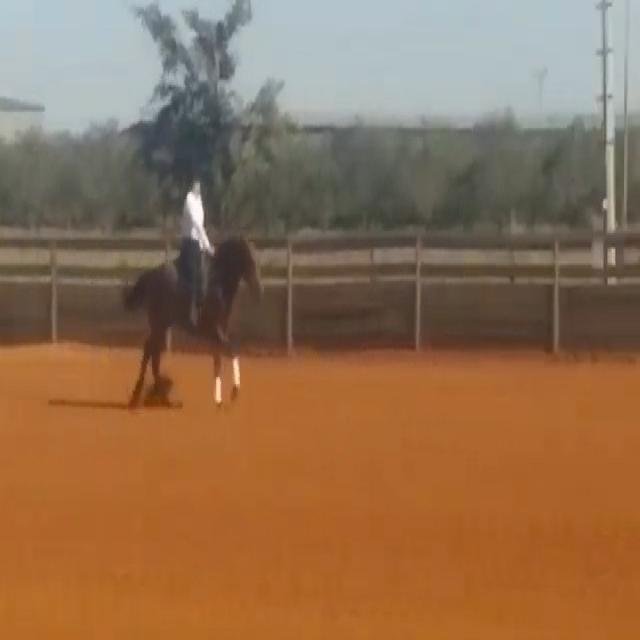horse: (119, 231, 264, 411)
